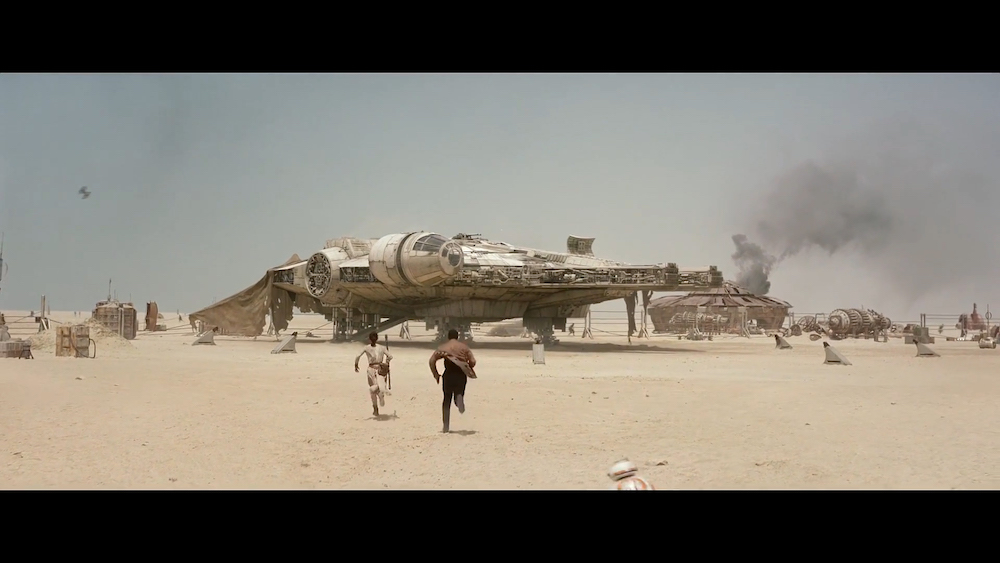Millennium Falcon: (267, 234, 721, 318)
Tie Fighter: (80, 187, 91, 199)
